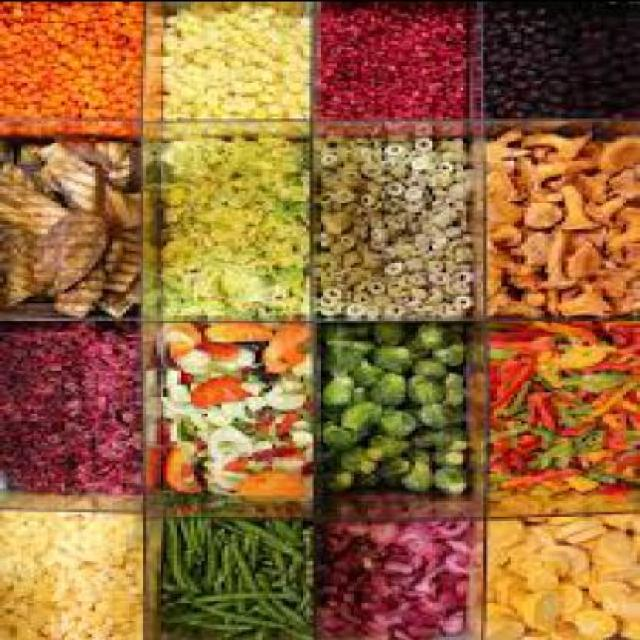BIODEGRADABLE: (313, 139, 470, 324), (483, 132, 637, 319), (483, 321, 637, 508), (149, 137, 303, 318), (157, 325, 303, 504), (1, 323, 136, 494), (312, 503, 477, 639), (156, 1, 307, 137), (317, 2, 463, 135), (483, 517, 639, 638), (156, 517, 310, 638), (1, 2, 139, 135), (480, 2, 637, 118), (0, 516, 140, 638), (38, 211, 108, 292), (0, 163, 58, 234), (34, 146, 95, 211), (65, 139, 129, 192), (0, 220, 38, 309), (225, 468, 306, 506), (514, 158, 592, 195), (586, 170, 636, 225), (256, 326, 306, 379), (188, 373, 258, 410), (99, 228, 136, 297), (51, 268, 98, 321), (204, 418, 262, 458), (552, 182, 592, 238), (555, 281, 610, 321), (161, 446, 201, 499), (534, 234, 568, 294), (323, 338, 368, 380), (92, 190, 136, 232), (511, 134, 578, 160), (198, 324, 276, 345), (368, 404, 415, 438), (596, 139, 636, 178), (368, 374, 408, 412), (337, 403, 385, 434), (157, 323, 197, 360), (402, 373, 440, 410), (426, 462, 463, 500), (372, 453, 408, 492), (256, 389, 306, 417), (408, 322, 459, 349), (408, 427, 459, 453), (193, 400, 244, 425), (361, 436, 405, 462), (374, 408, 412, 438), (333, 450, 378, 475), (416, 448, 466, 470), (368, 349, 408, 376), (317, 425, 357, 452), (398, 463, 432, 494), (435, 372, 460, 414), (422, 341, 462, 367), (320, 379, 354, 407), (96, 291, 130, 318), (320, 467, 357, 491), (372, 326, 412, 348), (323, 326, 382, 339), (344, 362, 371, 386)
